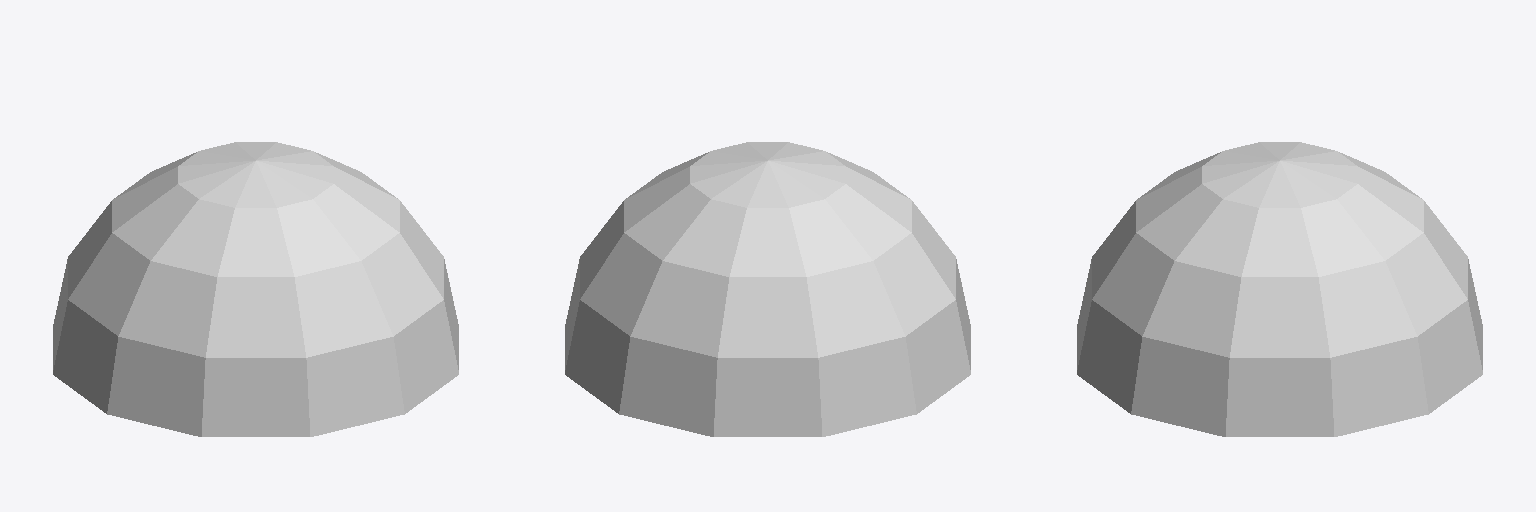
Rendered from dome.obj.
3 views of the same model, side by side, from view 1: azimuth 30°, elevation 25°; view 2: azimuth 150°, elevation 25°; view 3: azimuth 270°, elevation 25° (orthographic).
Visible parts, largest first — view 1: mesh01; view 2: mesh01; view 3: mesh01.
Boxes of the visible parts, <box> form: mesh01: <box>53,142,458,436</box>; mesh01: <box>565,142,970,436</box>; mesh01: <box>1077,142,1482,436</box>.
Bounding box in the file's own units: 4238 × 2194 × 4238.